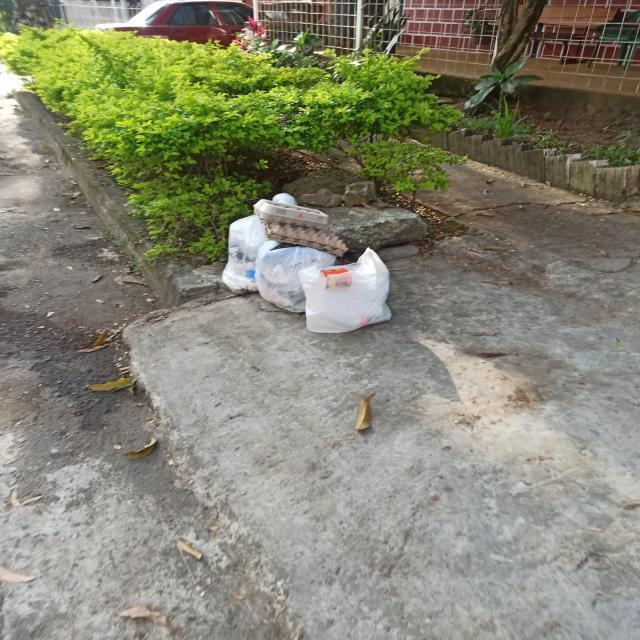Garbage_Bag: (297, 248, 403, 336), (215, 208, 292, 299), (253, 240, 342, 312)
